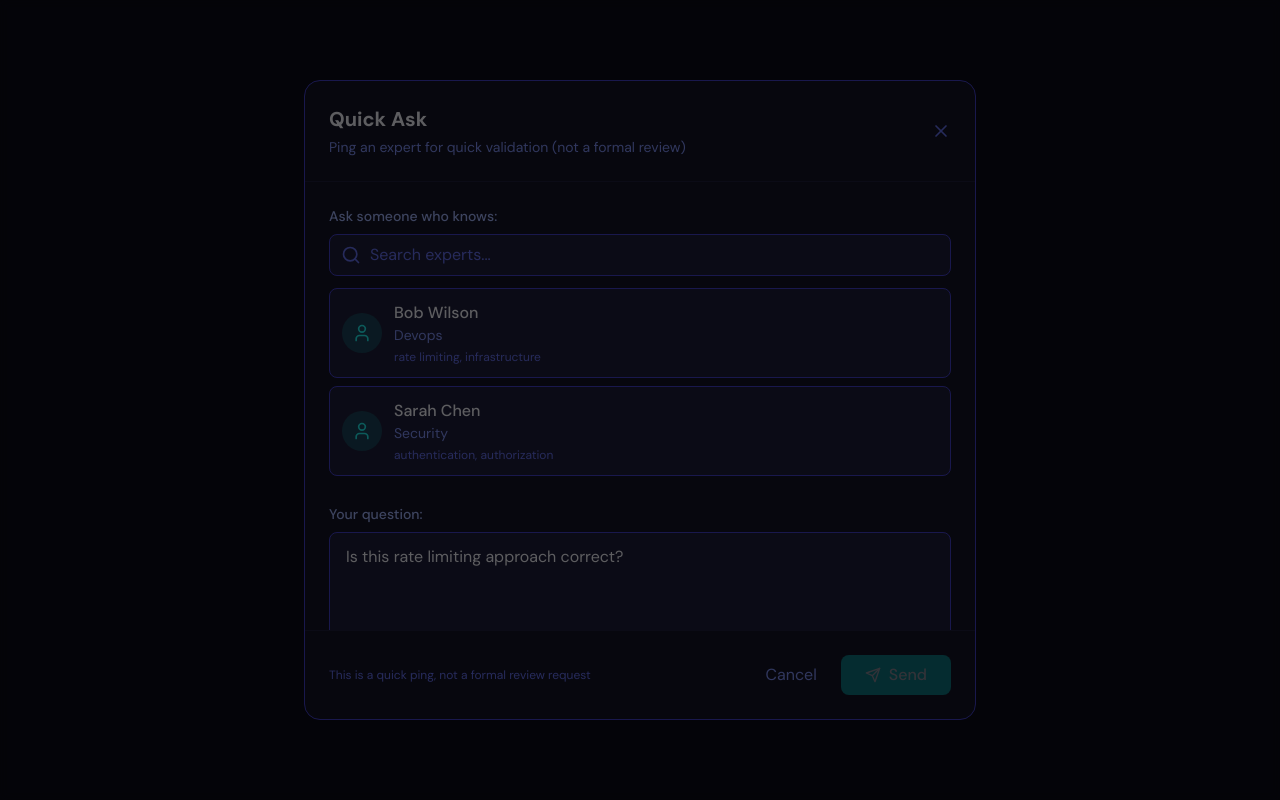
ExpertAskModal › disables send button when question is empty
Select an expert
Click the button "Bob Wilson": point(362, 333) [329,288,951,378]
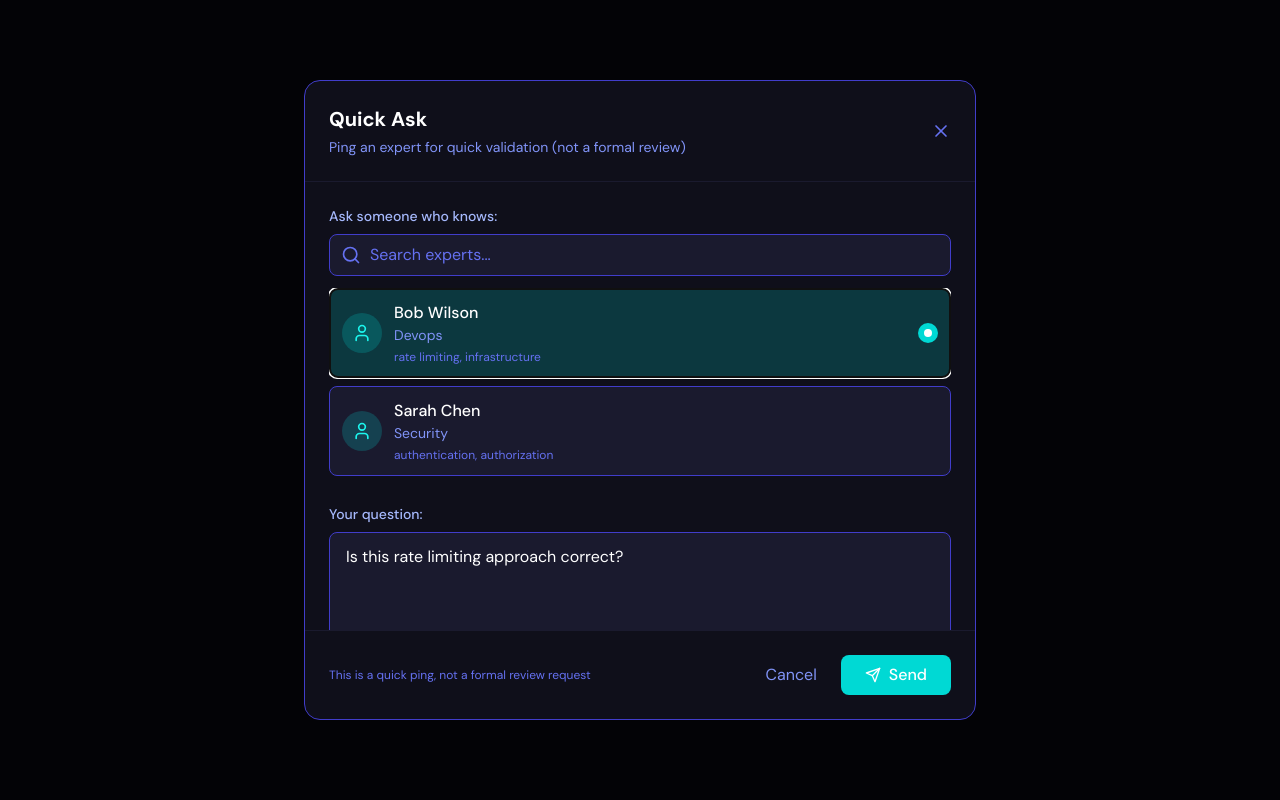
Clear the question
Clear the text box with placeholder "Ask your question...": point(640, 593) [329,532,951,654]
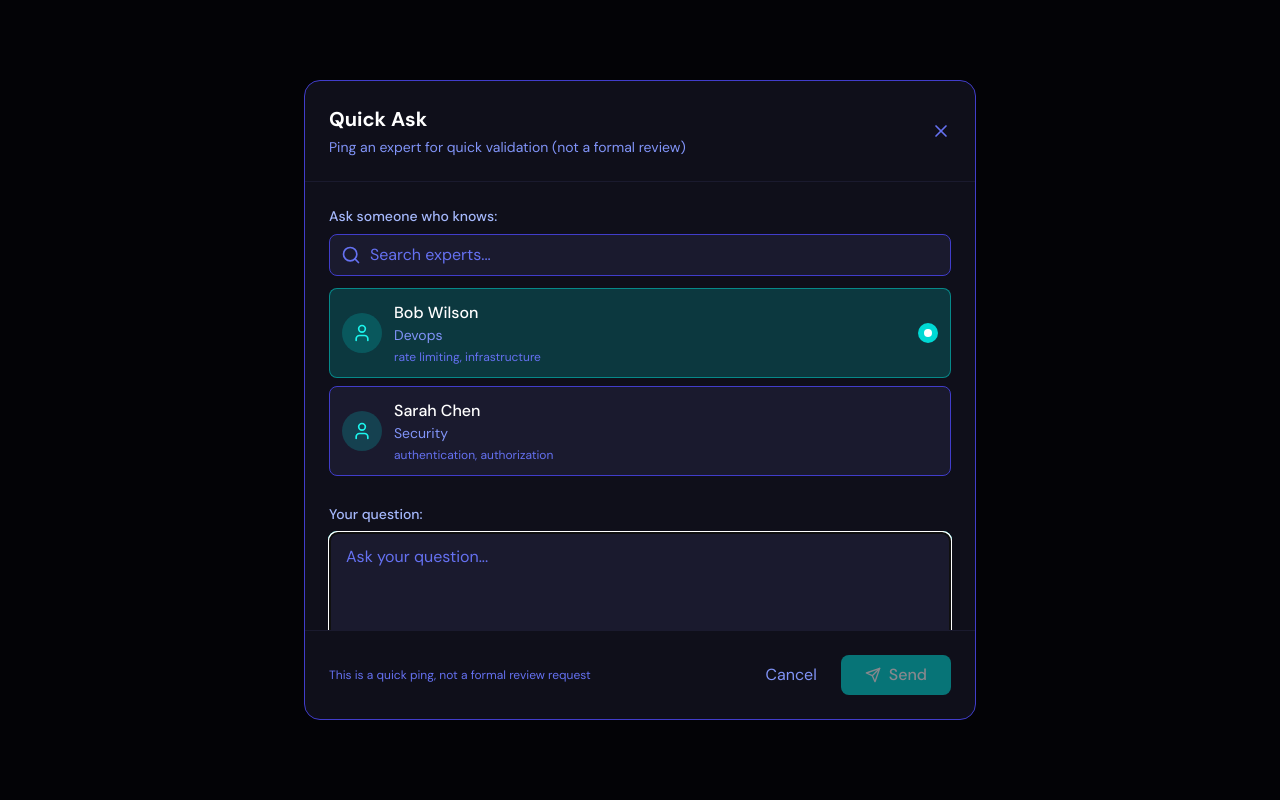
Check: the button "Send" is disabled, box [841,655,951,695]
